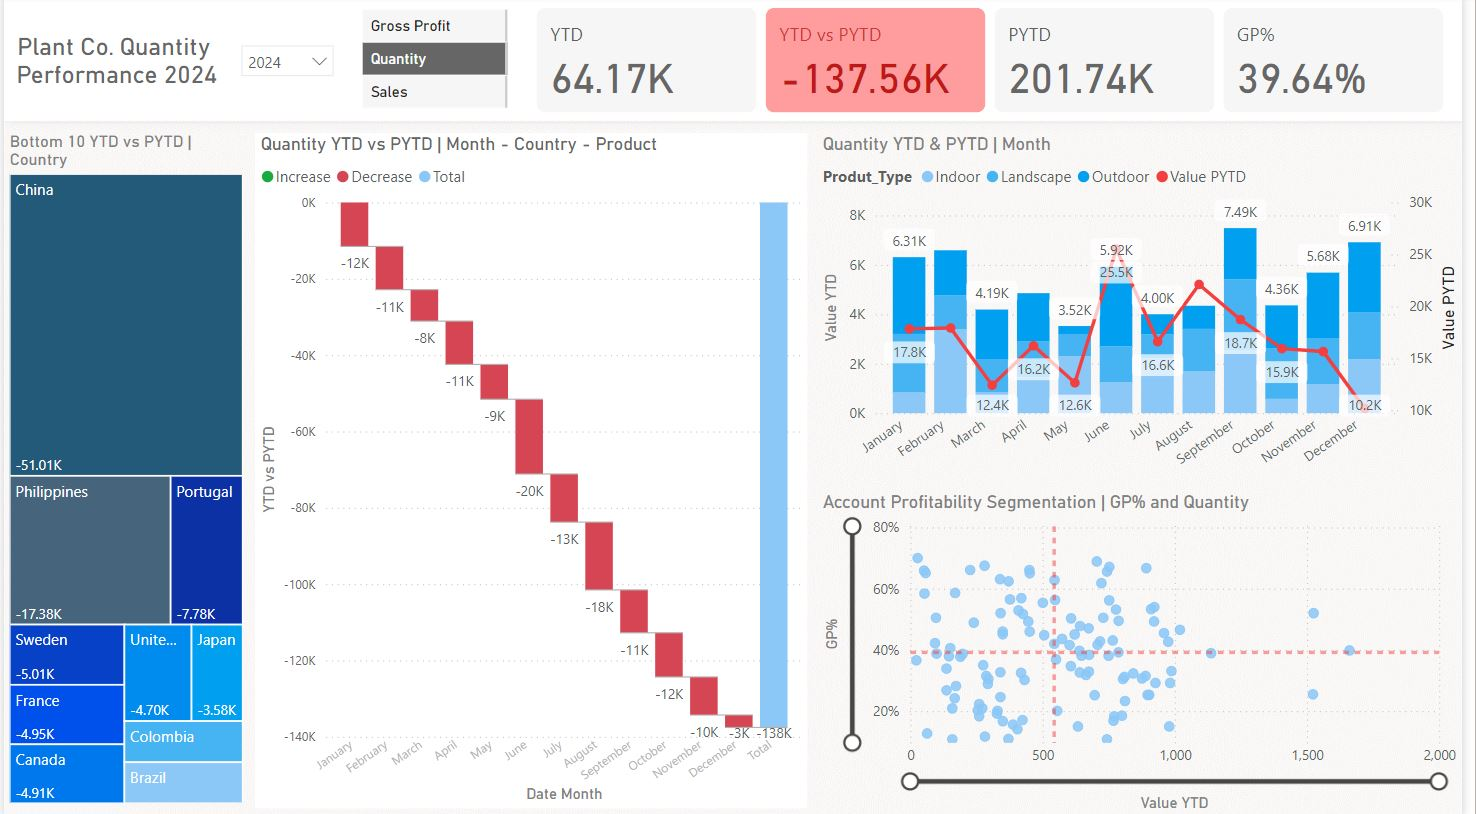

The dashboard page shown, as its layout file describes it:
{"tool":"powerbi","page":{"name":"Performance Report","canvas":[1280,720],"ordinal":0},"visuals":[{"type":"cardVisual","fields":{"Data":["_Measures.S_YTD","_Measures.YTD vs PYTD","_Measures.S_PYTD","_Measures.GP%"]},"box":[463,4.2,806.2,102.1],"z":0},{"type":"advancedSlicerVisual","fields":{"Values":["Slc_Values.Values"]},"box":[309.8,5.9,137.3,98],"z":1000},{"type":"slicer","fields":{"Values":["Dim_Date.Date.Variation.Date Hierarchy.Year"]},"box":[198.4,32.7,101.3,50.2],"z":2000},{"type":"treemap","title":"Bottom 10 YTD vs PYTD | Country","fields":{"Values":["_Measures.YTD vs PYTD"],"Group":["Dim_Account.country"]},"box":[0,118.7,214.6,594.4],"z":3000},{"type":"waterfallChart","fields":{"Y":["_Measures.YTD vs PYTD"],"Category":["Dim_Date.Date.Variation.Date Hierarchy.Month","Dim_Account.country","Dim_Product.Produt_Type","Dim_Product.Product_Name"]},"box":[220.3,119.6,485.2,593.5],"z":4000},{"type":"lineStackedColumnComboChart","fields":{"Y":["_Measures.S_YTD"],"Y2":["_Measures.S_PYTD"],"Category":["Dim_Date.Date.Variation.Date Hierarchy.Quarter","Dim_Date.Date.Variation.Date Hierarchy.Month"],"Series":["Dim_Product.Produt_Type"]},"box":[714.1,119.6,565.9,314.3],"z":5000},{"type":"scatterChart","fields":{"Y":["_Measures.GP%"],"X":["_Measures.S_YTD"],"Category":["Dim_Account.Account"]},"box":[714.1,433.9,565.9,285.8],"z":6000},{"type":"card","fields":{"Values":["_Measures._Report title"]},"box":[0,20.9,198.5,68.4],"z":7000}]}

Visuals, with their boxes in screenshot pixels (x1, y1, x2, y2), scaled from the page's 1280x720 canvas onto the 1476x814 screenshot:
cardVisual - _Measures.S_YTD x _Measures.YTD vs PYTD: {"x1": 534, "y1": 5, "x2": 1464, "y2": 120}
advancedSlicerVisual - Slc_Values.Values: {"x1": 357, "y1": 7, "x2": 516, "y2": 117}
slicer - Dim_Date.Date.Variation.Date Hierarchy.Year: {"x1": 229, "y1": 37, "x2": 346, "y2": 94}
"Bottom 10 YTD vs PYTD | Country" treemap: {"x1": 0, "y1": 134, "x2": 247, "y2": 806}
waterfallChart - _Measures.YTD vs PYTD x Dim_Date.Date.Variation.Date Hierarchy.Month: {"x1": 254, "y1": 135, "x2": 814, "y2": 806}
lineStackedColumnComboChart - _Measures.S_YTD x _Measures.S_PYTD: {"x1": 823, "y1": 135, "x2": 1475, "y2": 491}
scatterChart - _Measures.GP% x _Measures.S_YTD: {"x1": 823, "y1": 491, "x2": 1475, "y2": 813}
card - _Measures._Report title: {"x1": 0, "y1": 24, "x2": 229, "y2": 101}
